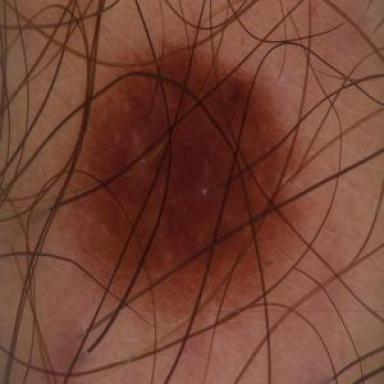Melanoma: (62, 44, 294, 315)
